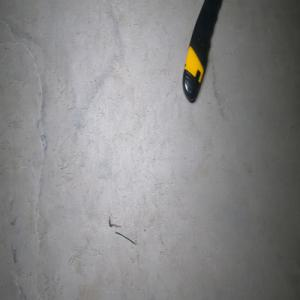Cutter: (181, 0, 222, 104)
